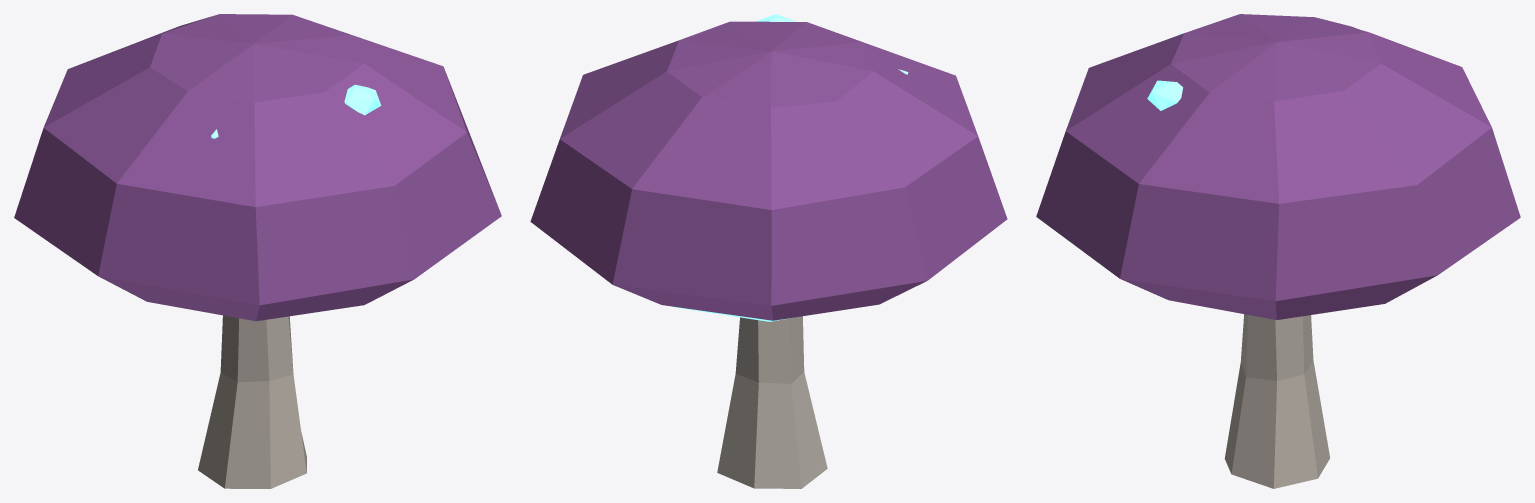
The model's file is mushroom.glb.
3 views of the same model, side by side, from view 1: azimuth 30°, elevation 25°; view 2: azimuth 150°, elevation 25°; view 3: azimuth 270°, elevation 25° (orthographic).
Visible parts, largest first — view 1: mushroom; view 2: mushroom; view 3: mushroom.
Boxes of the visible parts, box(x1,y1,x2,y2) form: mushroom: box(14, 14, 501, 488); mushroom: box(530, 14, 1007, 488); mushroom: box(1036, 14, 1520, 488).
Bounding box in the file's own units: 1.54 × 1.51 × 1.57.
